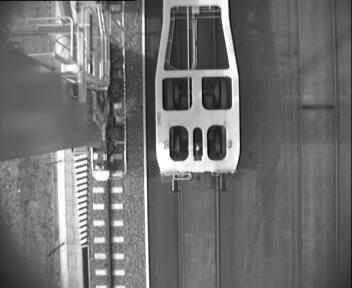wagon_scan: (164, 121, 231, 163)
